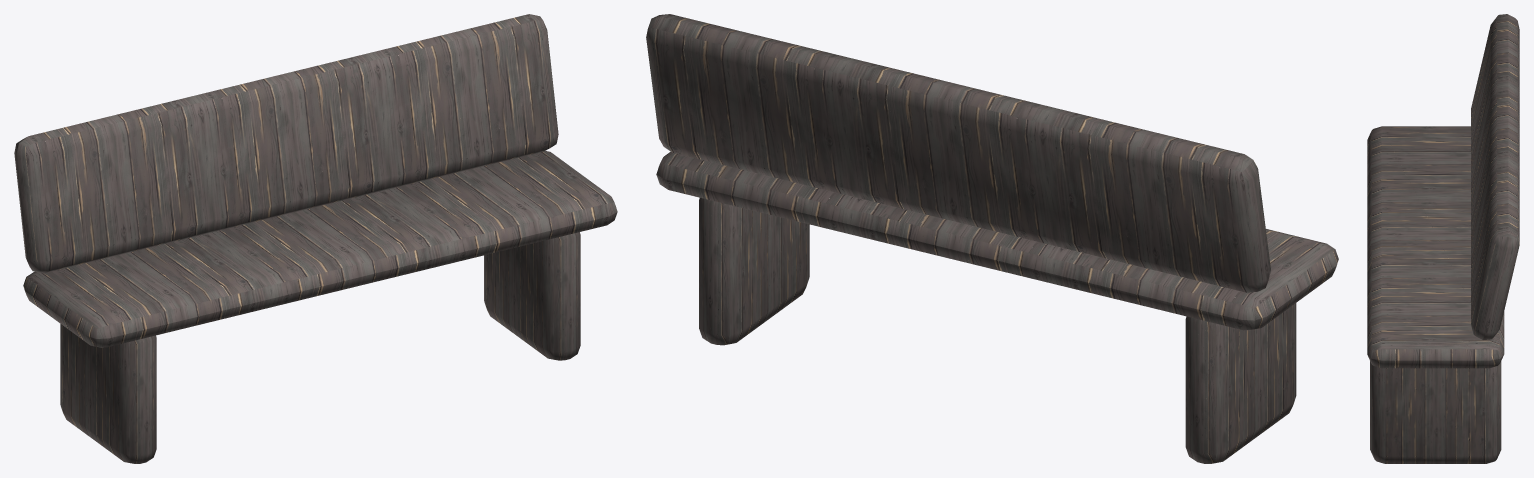
The model's file is bench.gltf.
The picture shows the model from 3 angles, left to right: view 1: azimuth 30°, elevation 25°; view 2: azimuth 150°, elevation 25°; view 3: azimuth 270°, elevation 25°; orthographic projection. The views are drawn at different scales.
Visible parts, largest first — view 1: bench; view 2: bench; view 3: bench.
Boxes of the visible parts, box(x1,y1,x2,y2) form: bench: box(14, 14, 617, 463); bench: box(646, 14, 1338, 463); bench: box(1367, 14, 1519, 463).
Size of the model in its own units: 1.8 by 0.9254 by 0.5122.
1 material, 1 textured.
